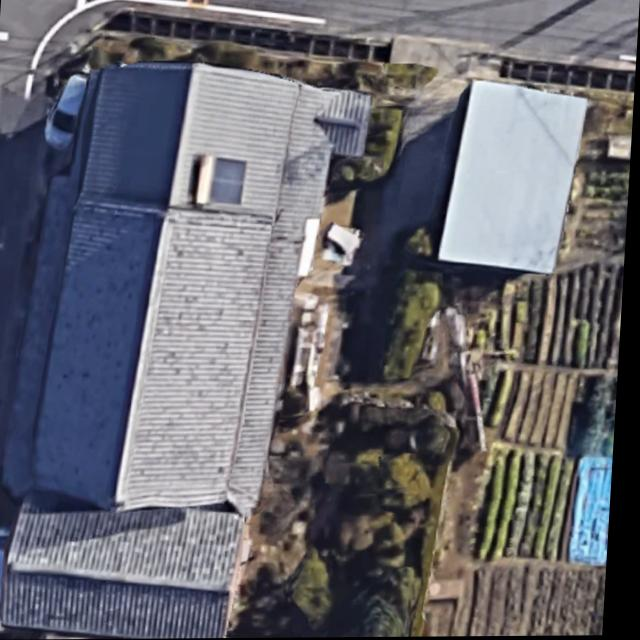Batiment: (9, 64, 370, 513), (9, 506, 248, 639), (440, 81, 587, 275)
